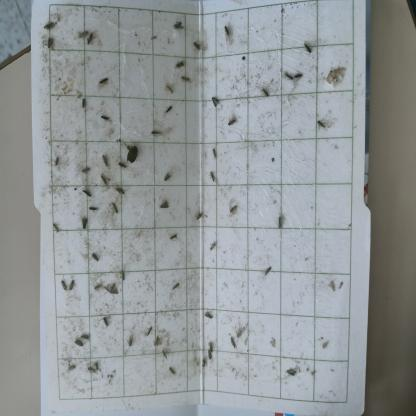prays_oleae: (320, 57, 350, 96), (151, 115, 168, 143), (96, 66, 111, 94), (222, 24, 238, 50), (314, 115, 329, 140), (108, 198, 124, 221), (114, 176, 129, 200), (169, 276, 186, 297), (101, 151, 116, 173), (162, 99, 175, 124), (125, 329, 139, 352), (91, 272, 102, 300), (163, 82, 179, 101), (51, 215, 63, 240), (98, 110, 113, 130), (171, 17, 186, 37), (223, 113, 237, 134), (276, 213, 288, 237), (229, 330, 240, 356), (258, 84, 272, 104), (98, 172, 112, 192), (85, 361, 100, 379), (78, 182, 93, 200), (265, 258, 275, 284), (161, 167, 174, 187), (302, 38, 316, 56), (44, 33, 57, 52), (50, 150, 61, 172), (179, 71, 194, 87), (158, 200, 173, 216), (118, 263, 128, 287), (189, 38, 203, 55), (76, 217, 90, 234), (79, 24, 92, 42), (87, 29, 98, 50), (294, 68, 306, 87), (46, 19, 61, 34), (172, 54, 186, 70), (80, 160, 93, 177), (212, 142, 221, 166), (56, 274, 68, 292), (166, 232, 180, 247), (72, 337, 86, 352), (282, 364, 295, 380), (87, 250, 100, 266), (192, 206, 204, 223), (144, 324, 154, 344), (211, 92, 222, 110), (165, 366, 179, 380), (64, 361, 79, 374), (89, 202, 102, 217), (230, 200, 240, 219), (210, 234, 218, 256), (68, 276, 77, 295), (79, 92, 87, 113), (204, 307, 216, 320), (116, 158, 127, 172), (80, 329, 94, 340), (102, 316, 111, 332), (284, 74, 294, 88), (158, 348, 168, 362), (209, 164, 216, 183), (208, 338, 216, 354), (208, 349, 213, 369)
